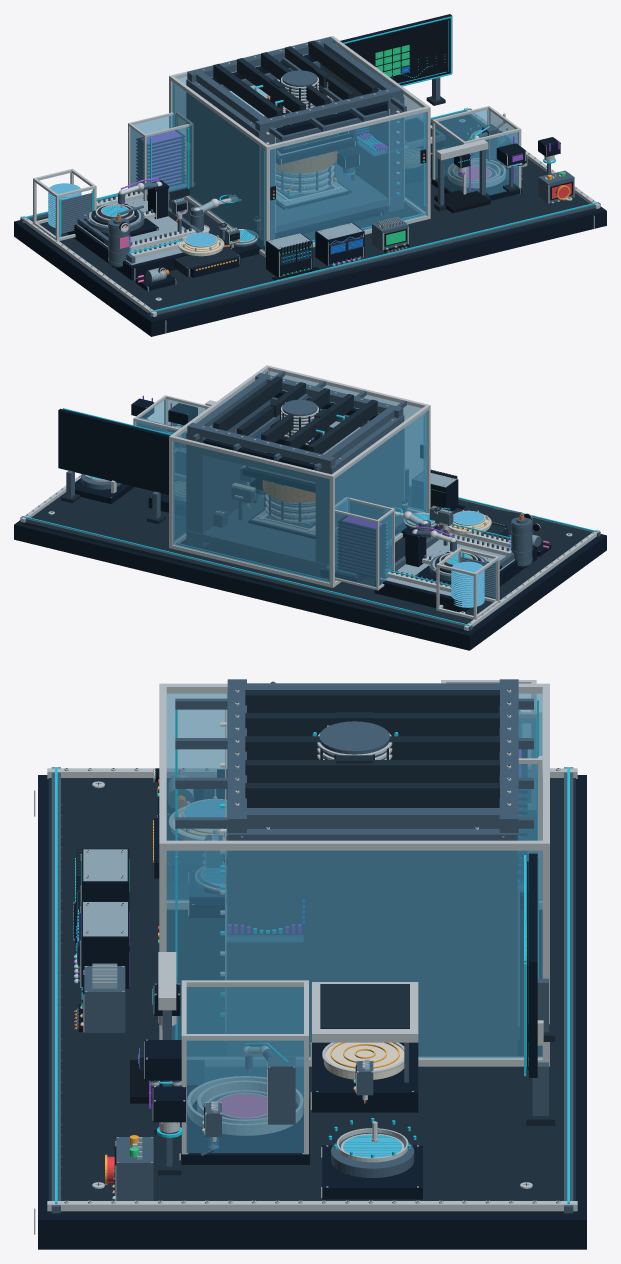
The model's file is Level74_Complete_ArtKit_Showcase.fbx.
3 views of the same model, one above another, from view 1: azimuth 30°, elevation 25°; view 2: azimuth 150°, elevation 25°; view 3: azimuth 270°, elevation 25° (orthographic). The views are drawn at different scales.
Parts seen in each view (by area): view 1: Level74_Complete_ArtKit_Showcase, Level74_Complete_ArtKit_Showcase_Part_4007, Level74_Complete_ArtKit_Showcase_Part_2951, Level74_Complete_ArtKit_Showcase_Part_3951, Level74_Complete_ArtKit_Showcase_Part_3473; view 2: Level74_Complete_ArtKit_Showcase, Level74_Complete_ArtKit_Showcase_Part_3951, Level74_Complete_ArtKit_Showcase_Part_3473; view 3: Level74_Complete_ArtKit_Showcase, Level74_Complete_ArtKit_Showcase_Part_3257, Level74_Complete_ArtKit_Showcase_Part_3256, Level74_Complete_ArtKit_Showcase_Part_3951, Level74_Complete_ArtKit_Showcase_Part_3473, Level74_Complete_ArtKit_Showcase_Part_3649, Level74_Complete_ArtKit_Showcase_Part_3325, Level74_Complete_ArtKit_Showcase_Part_3397, Level74_Complete_ArtKit_Showcase_Part_3429.
Boxes of the visible parts, x1,y1,x2,y2 form: Level74_Complete_ArtKit_Showcase: (14, 36, 606, 336); Level74_Complete_ArtKit_Showcase_Part_4007: (345, 19, 448, 83); Level74_Complete_ArtKit_Showcase_Part_2951: (275, 208, 383, 238); Level74_Complete_ArtKit_Showcase_Part_3951: (340, 14, 452, 85); Level74_Complete_ArtKit_Showcase_Part_3473: (496, 143, 525, 165); Level74_Complete_ArtKit_Showcase: (14, 365, 606, 650); Level74_Complete_ArtKit_Showcase_Part_3951: (58, 408, 170, 494); Level74_Complete_ArtKit_Showcase_Part_3473: (168, 403, 197, 425); Level74_Complete_ArtKit_Showcase: (34, 679, 586, 1249); Level74_Complete_ArtKit_Showcase_Part_3257: (320, 984, 409, 1028); Level74_Complete_ArtKit_Showcase_Part_3256: (312, 982, 418, 1042); Level74_Complete_ArtKit_Showcase_Part_3951: (529, 853, 537, 1077); Level74_Complete_ArtKit_Showcase_Part_3473: (144, 1040, 181, 1080); Level74_Complete_ArtKit_Showcase_Part_3649: (153, 1086, 185, 1122); Level74_Complete_ArtKit_Showcase_Part_3325: (218, 1094, 266, 1119); Level74_Complete_ArtKit_Showcase_Part_3397: (340, 1134, 404, 1157); Level74_Complete_ArtKit_Showcase_Part_3429: (337, 1128, 408, 1162).
Bounding box in the file's own units: 1820 × 578 × 957.
